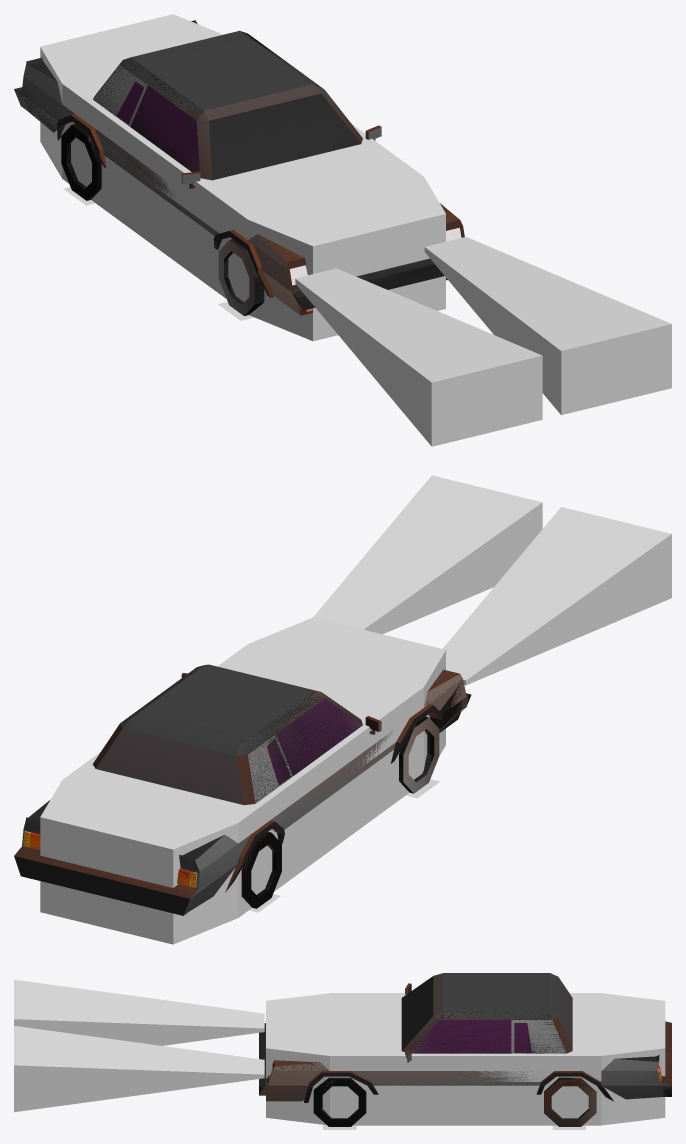
The model's file is Rogue.fbx.
3 renders of one model, top to bottom at view 1: azimuth 30°, elevation 25°; view 2: azimuth 150°, elevation 25°; view 3: azimuth 270°, elevation 25°, orthographic. The views are drawn at different scales.
Visible parts, largest first — view 1: rogue_cldr, rogue_gr, rogue, rogue_lckd, rogue_dead, rogue_frontwheels; view 2: rogue_cldr, rogue_gr, rogue, rogue_lckd, rogue_dead, rogue_frontwheels; view 3: rogue_cldr, rogue_gr, rogue, rogue_lckd, rogue_rearwheels, rogue_dead.
Boxes of the visible parts, x1=… form: rogue_cldr: x1=40, y1=14, x2=445, y2=341; rogue_gr: x1=295, y1=237, x2=671, y2=446; rogue: x1=14, y1=20, x2=464, y2=315; rogue_lckd: x1=61, y1=32, x2=320, y2=315; rogue_dead: x1=14, y1=36, x2=460, y2=315; rogue_frontwheels: x1=218, y1=239, x2=264, y2=315; rogue_cldr: x1=40, y1=617, x2=445, y2=944; rogue_gr: x1=313, y1=475, x2=671, y2=685; rogue: x1=14, y1=664, x2=470, y2=915; rogue_lckd: x1=129, y1=666, x2=434, y2=908; rogue_dead: x1=23, y1=678, x2=471, y2=892; rogue_frontwheels: x1=399, y1=717, x2=439, y2=793; rogue_cldr: x1=266, y1=993, x2=665, y2=1125; rogue_gr: x1=14, y1=979, x2=264, y2=1112; rogue: x1=259, y1=973, x2=671, y2=1102; rogue_lckd: x1=313, y1=1012, x2=593, y2=1126; rogue_rearwheels: x1=544, y1=1077, x2=596, y2=1126; rogue_dead: x1=259, y1=1015, x2=671, y2=1101.
Size of the model in its own units: 4.45 by 2.46 by 14.45.
